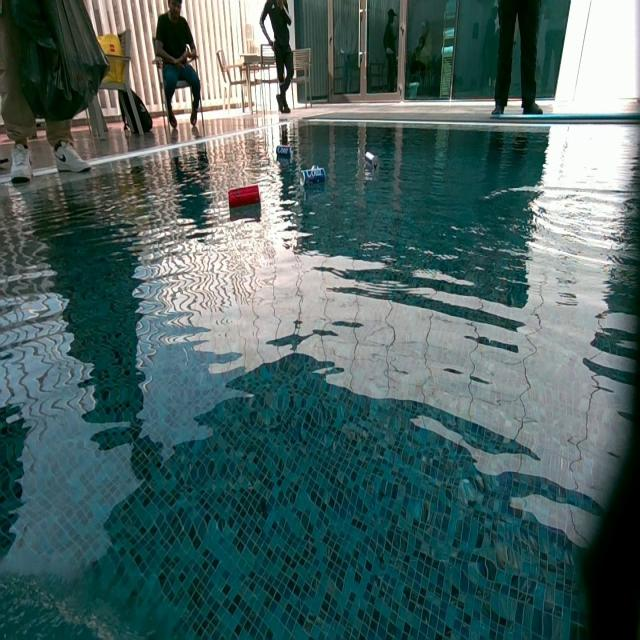Cans: (229, 188, 260, 210), (300, 166, 326, 187), (364, 153, 380, 176), (276, 143, 294, 160)
